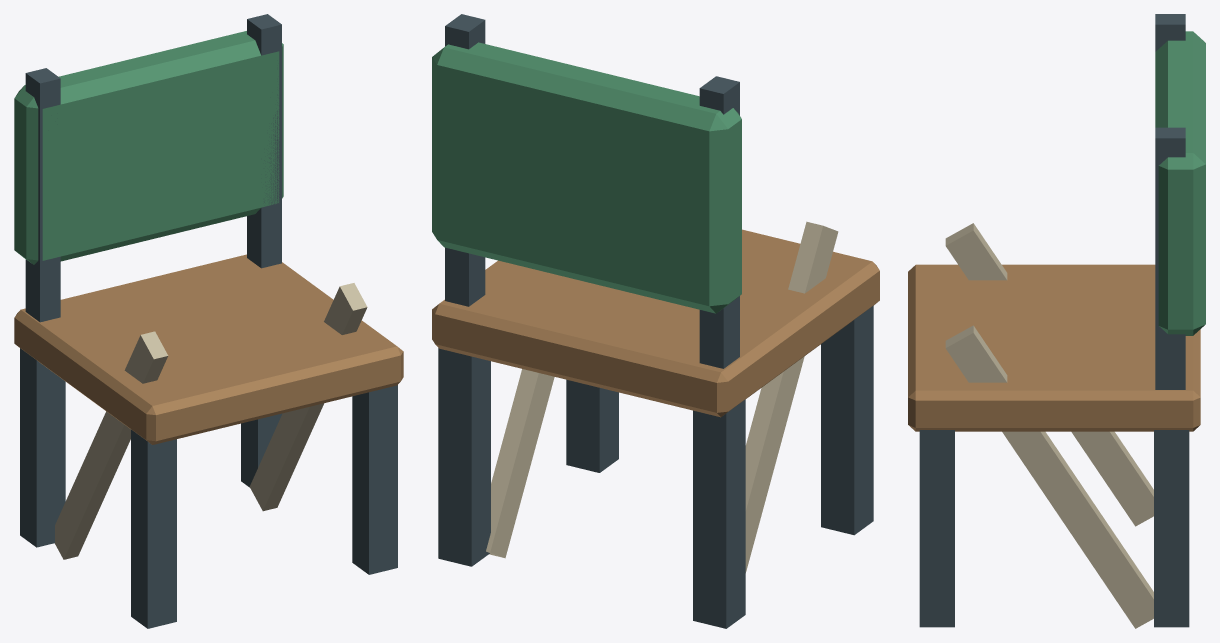
File: folding_chair.glb
3 views of the same model, side by side, from view 1: azimuth 30°, elevation 25°; view 2: azimuth 150°, elevation 25°; view 3: azimuth 270°, elevation 25° (orthographic). The views are drawn at different scales.
Visible parts, largest first — view 1: folding_chair; view 2: folding_chair; view 3: folding_chair.
Boxes of the visible parts, x1,y1,x2,y2 form: folding_chair: (14, 14, 403, 628); folding_chair: (432, 14, 879, 628); folding_chair: (908, 14, 1205, 628).
Size of the model in its own units: 0.62 by 1.09 by 0.59.
